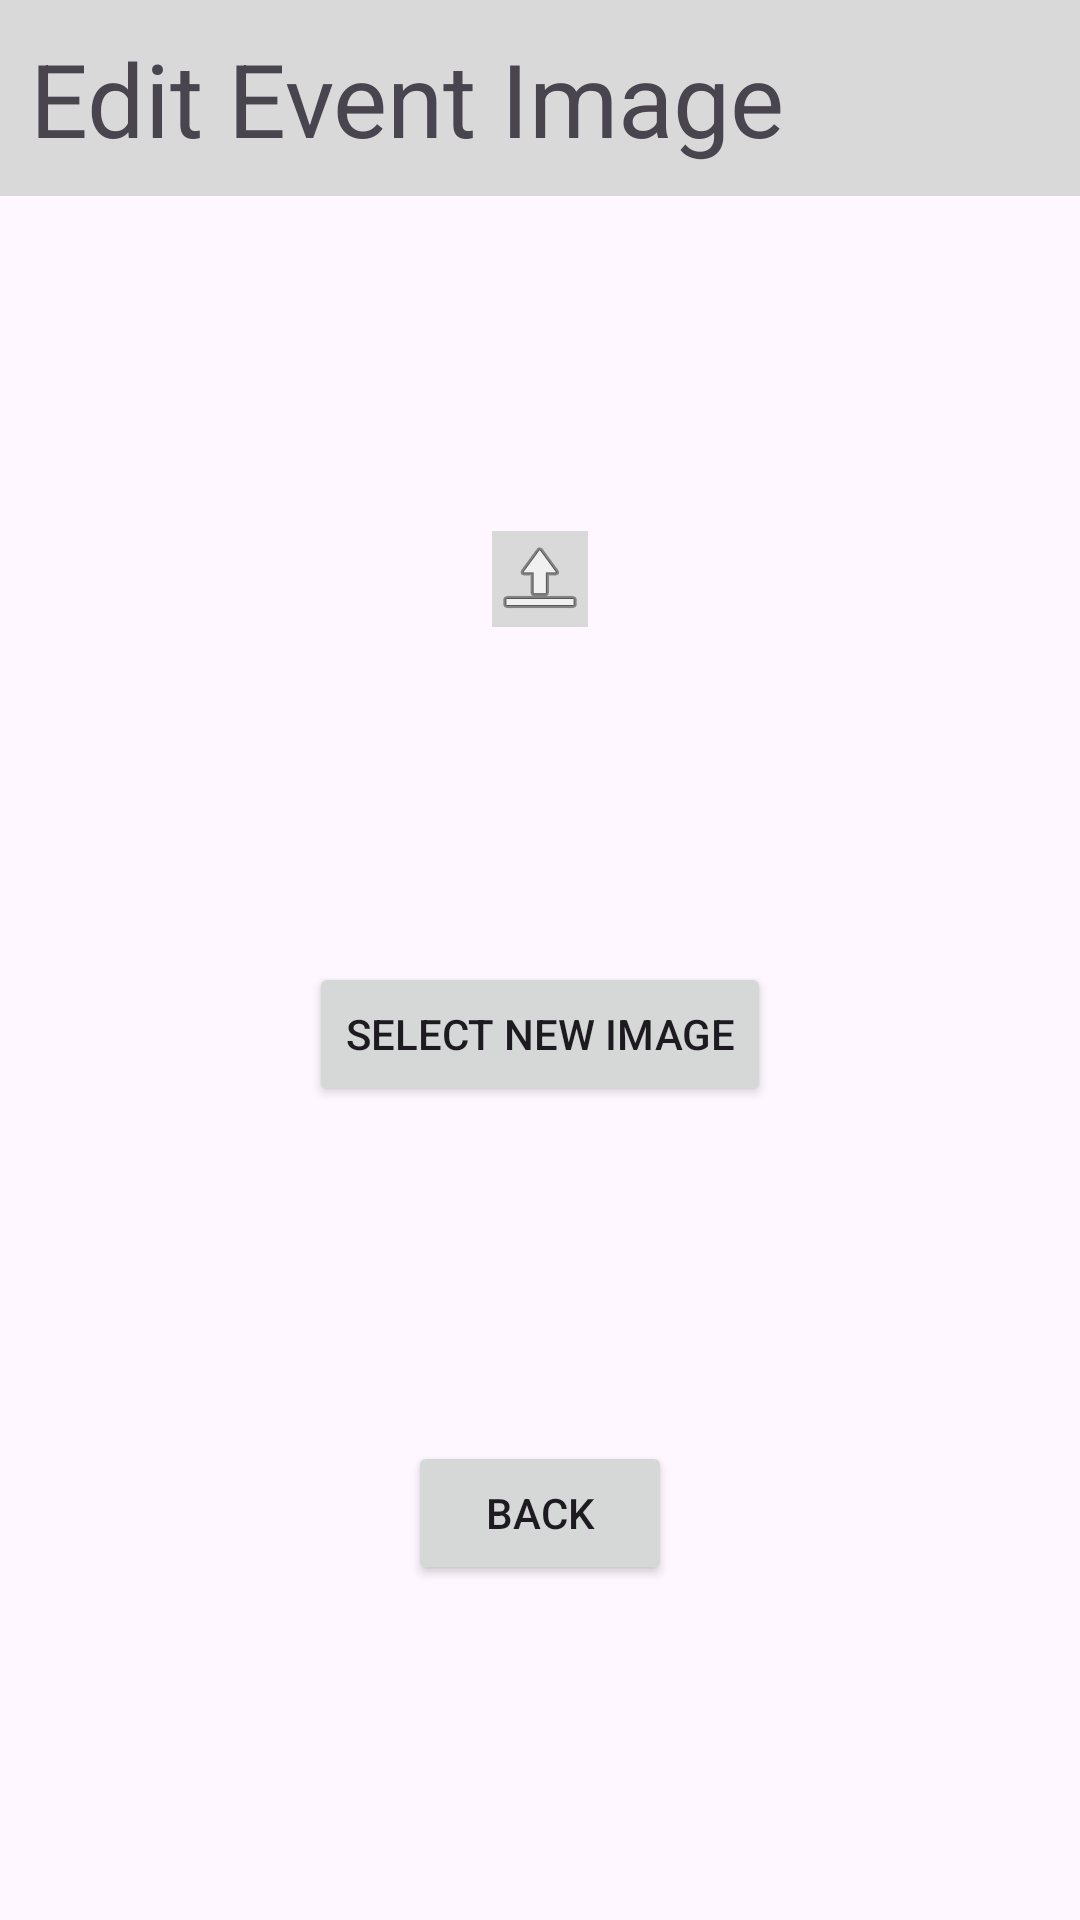

Icon click points for this 1080 × 1920 phone screenshot, format (x=x, y=y):
upload: (x=540, y=579)
